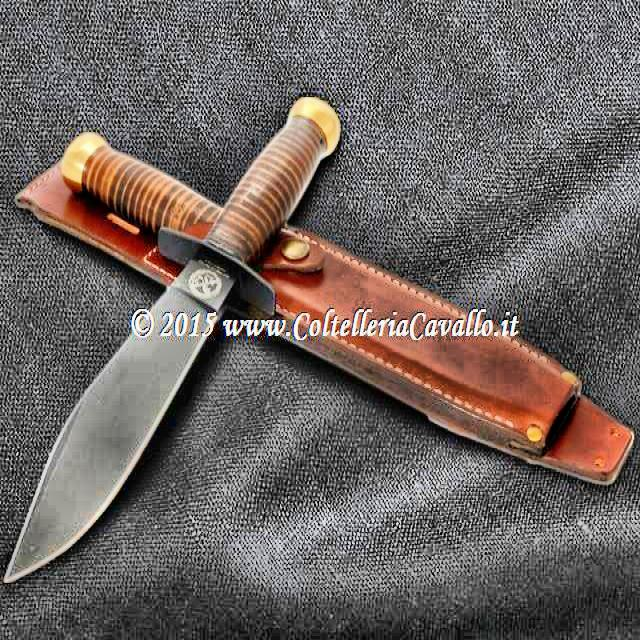knife: (61, 133, 616, 479), (9, 98, 339, 582)
